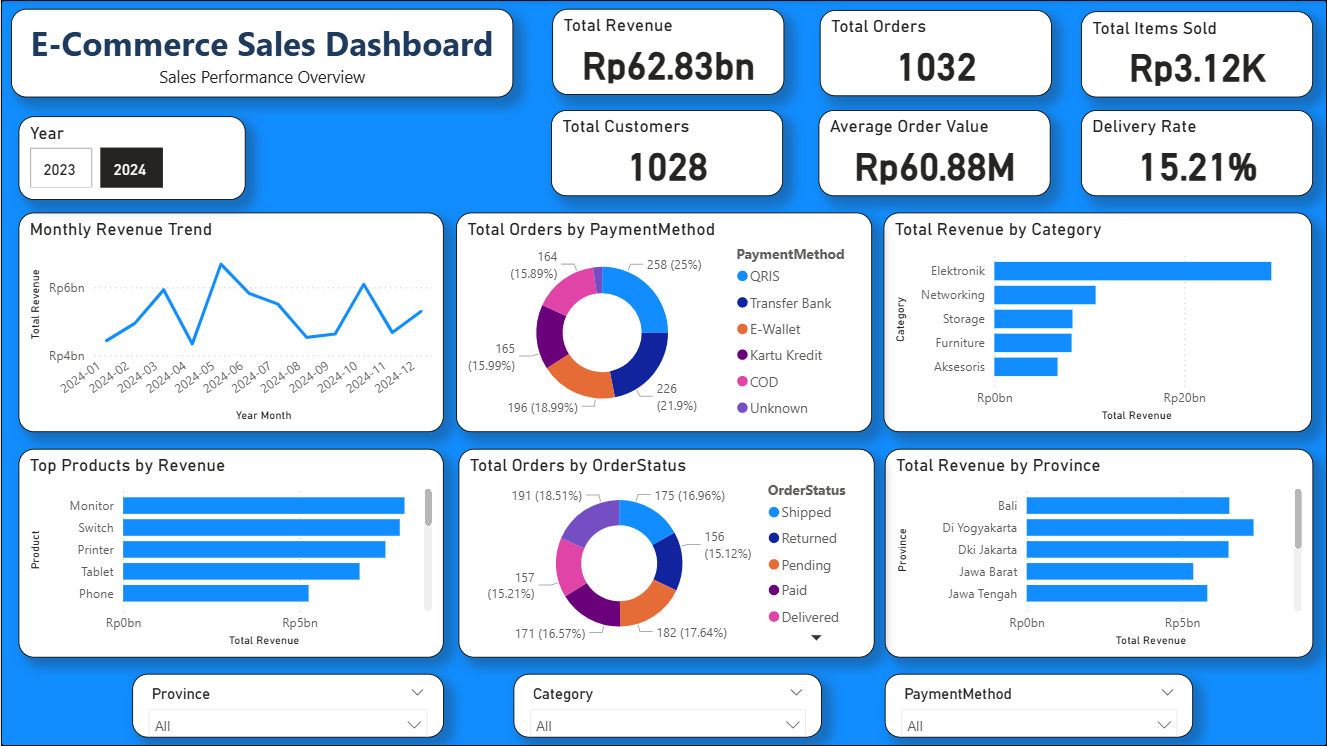

Layout of this report page (visuals, bound fields, positions):
{"tool":"powerbi","page":{"name":"ESD","canvas":[1280,720],"ordinal":0},"visuals":[{"type":"textbox","box":[9.7,8.4,485,85.7],"z":0},{"type":"card","title":"Total Revenue","fields":{"Values":["Sales.Total Revenue"]},"box":[531.8,8.7,224.4,83.2],"z":1000},{"type":"card","title":"Total Orders","fields":{"Values":["Sales.Total Orders"]},"box":[790,9.9,224.4,83.2],"z":2000},{"type":"card","title":"Total Items Sold","fields":{"Values":["Sales.Total Items Sold"]},"box":[1042.1,11.1,224.4,83.2],"z":3000},{"type":"card","title":"Total Customers","fields":{"Values":["Sales.Total Customers"]},"box":[531.3,105.9,224.4,83.2],"z":4000},{"type":"card","title":"Average Order Value","fields":{"Values":["Sales.Average Order Value"]},"box":[789.5,105.9,224.4,83.2],"z":5000},{"type":"lineChart","title":"Monthly Revenue Trend","fields":{"Y":["Sales.Total Revenue"],"Category":["Dim_Date.Year Month"]},"box":[16.9,205.1,410.2,212.3],"z":6000},{"type":"clusteredBarChart","fields":{"Category":["Sales.Category"],"Y":["Sales.Total Revenue"]},"box":[851.7,205.1,413.8,212.3],"z":7000},{"type":"clusteredBarChart","title":"Top Products by Revenue","fields":{"Category":["Sales.Product"],"Y":["Sales.Total Revenue"]},"box":[16.9,433.1,410.2,201.5],"z":8000},{"type":"clusteredBarChart","fields":{"Category":["Sales.Province"],"Y":["Sales.Total Revenue"]},"box":[853,433.1,413.8,201.5],"z":9000},{"type":"donutChart","fields":{"Category":["Sales.PaymentMethod"],"Y":["Sales.Total Orders"]},"box":[439.1,205.1,401.7,212.3],"z":10000},{"type":"donutChart","fields":{"Category":["Sales.OrderStatus"],"Y":["Sales.Total Orders"]},"box":[441.6,433.1,401.7,201.5],"z":11000},{"type":"card","title":"Delivery Rate","fields":{"Values":["Sales.Delivery Rate"]},"box":[1042.1,106.4,224.4,83.2],"z":12000},{"type":"advancedSlicerVisual","fields":{"Values":["Dim_Date.Year"]},"box":[16.9,112.2,219.6,80.8],"z":13000},{"type":"slicer","fields":{"Values":["Sales.Province"]},"box":[126.7,650.3,300.4,61.5],"z":14000},{"type":"slicer","fields":{"Values":["Sales.Category"]},"box":[494.6,650.3,298,61.5],"z":15000},{"type":"slicer","fields":{"Values":["Sales.PaymentMethod"]},"box":[853,650.3,298,61.5],"z":16000}]}

Visuals, with their boxes in screenshot pixels (x1, y1, x2, y2), scaled from the page's 1280x720 canvas onto the 1327x746 screenshot:
textbox: crop(10, 9, 513, 97)
"Total Revenue" card: crop(551, 9, 784, 95)
"Total Orders" card: crop(819, 10, 1052, 96)
"Total Items Sold" card: crop(1080, 12, 1313, 98)
"Total Customers" card: crop(551, 110, 783, 196)
"Average Order Value" card: crop(818, 110, 1051, 196)
"Monthly Revenue Trend" lineChart: crop(18, 213, 443, 432)
clusteredBarChart - Sales.Category x Sales.Total Revenue: crop(883, 213, 1312, 432)
"Top Products by Revenue" clusteredBarChart: crop(18, 449, 443, 658)
clusteredBarChart - Sales.Province x Sales.Total Revenue: crop(884, 449, 1313, 658)
donutChart - Sales.PaymentMethod x Sales.Total Orders: crop(455, 213, 872, 432)
donutChart - Sales.OrderStatus x Sales.Total Orders: crop(458, 449, 874, 658)
"Delivery Rate" card: crop(1080, 110, 1313, 196)
advancedSlicerVisual - Dim_Date.Year: crop(18, 116, 245, 200)
slicer - Sales.Province: crop(131, 674, 443, 738)
slicer - Sales.Category: crop(513, 674, 822, 738)
slicer - Sales.PaymentMethod: crop(884, 674, 1193, 738)
